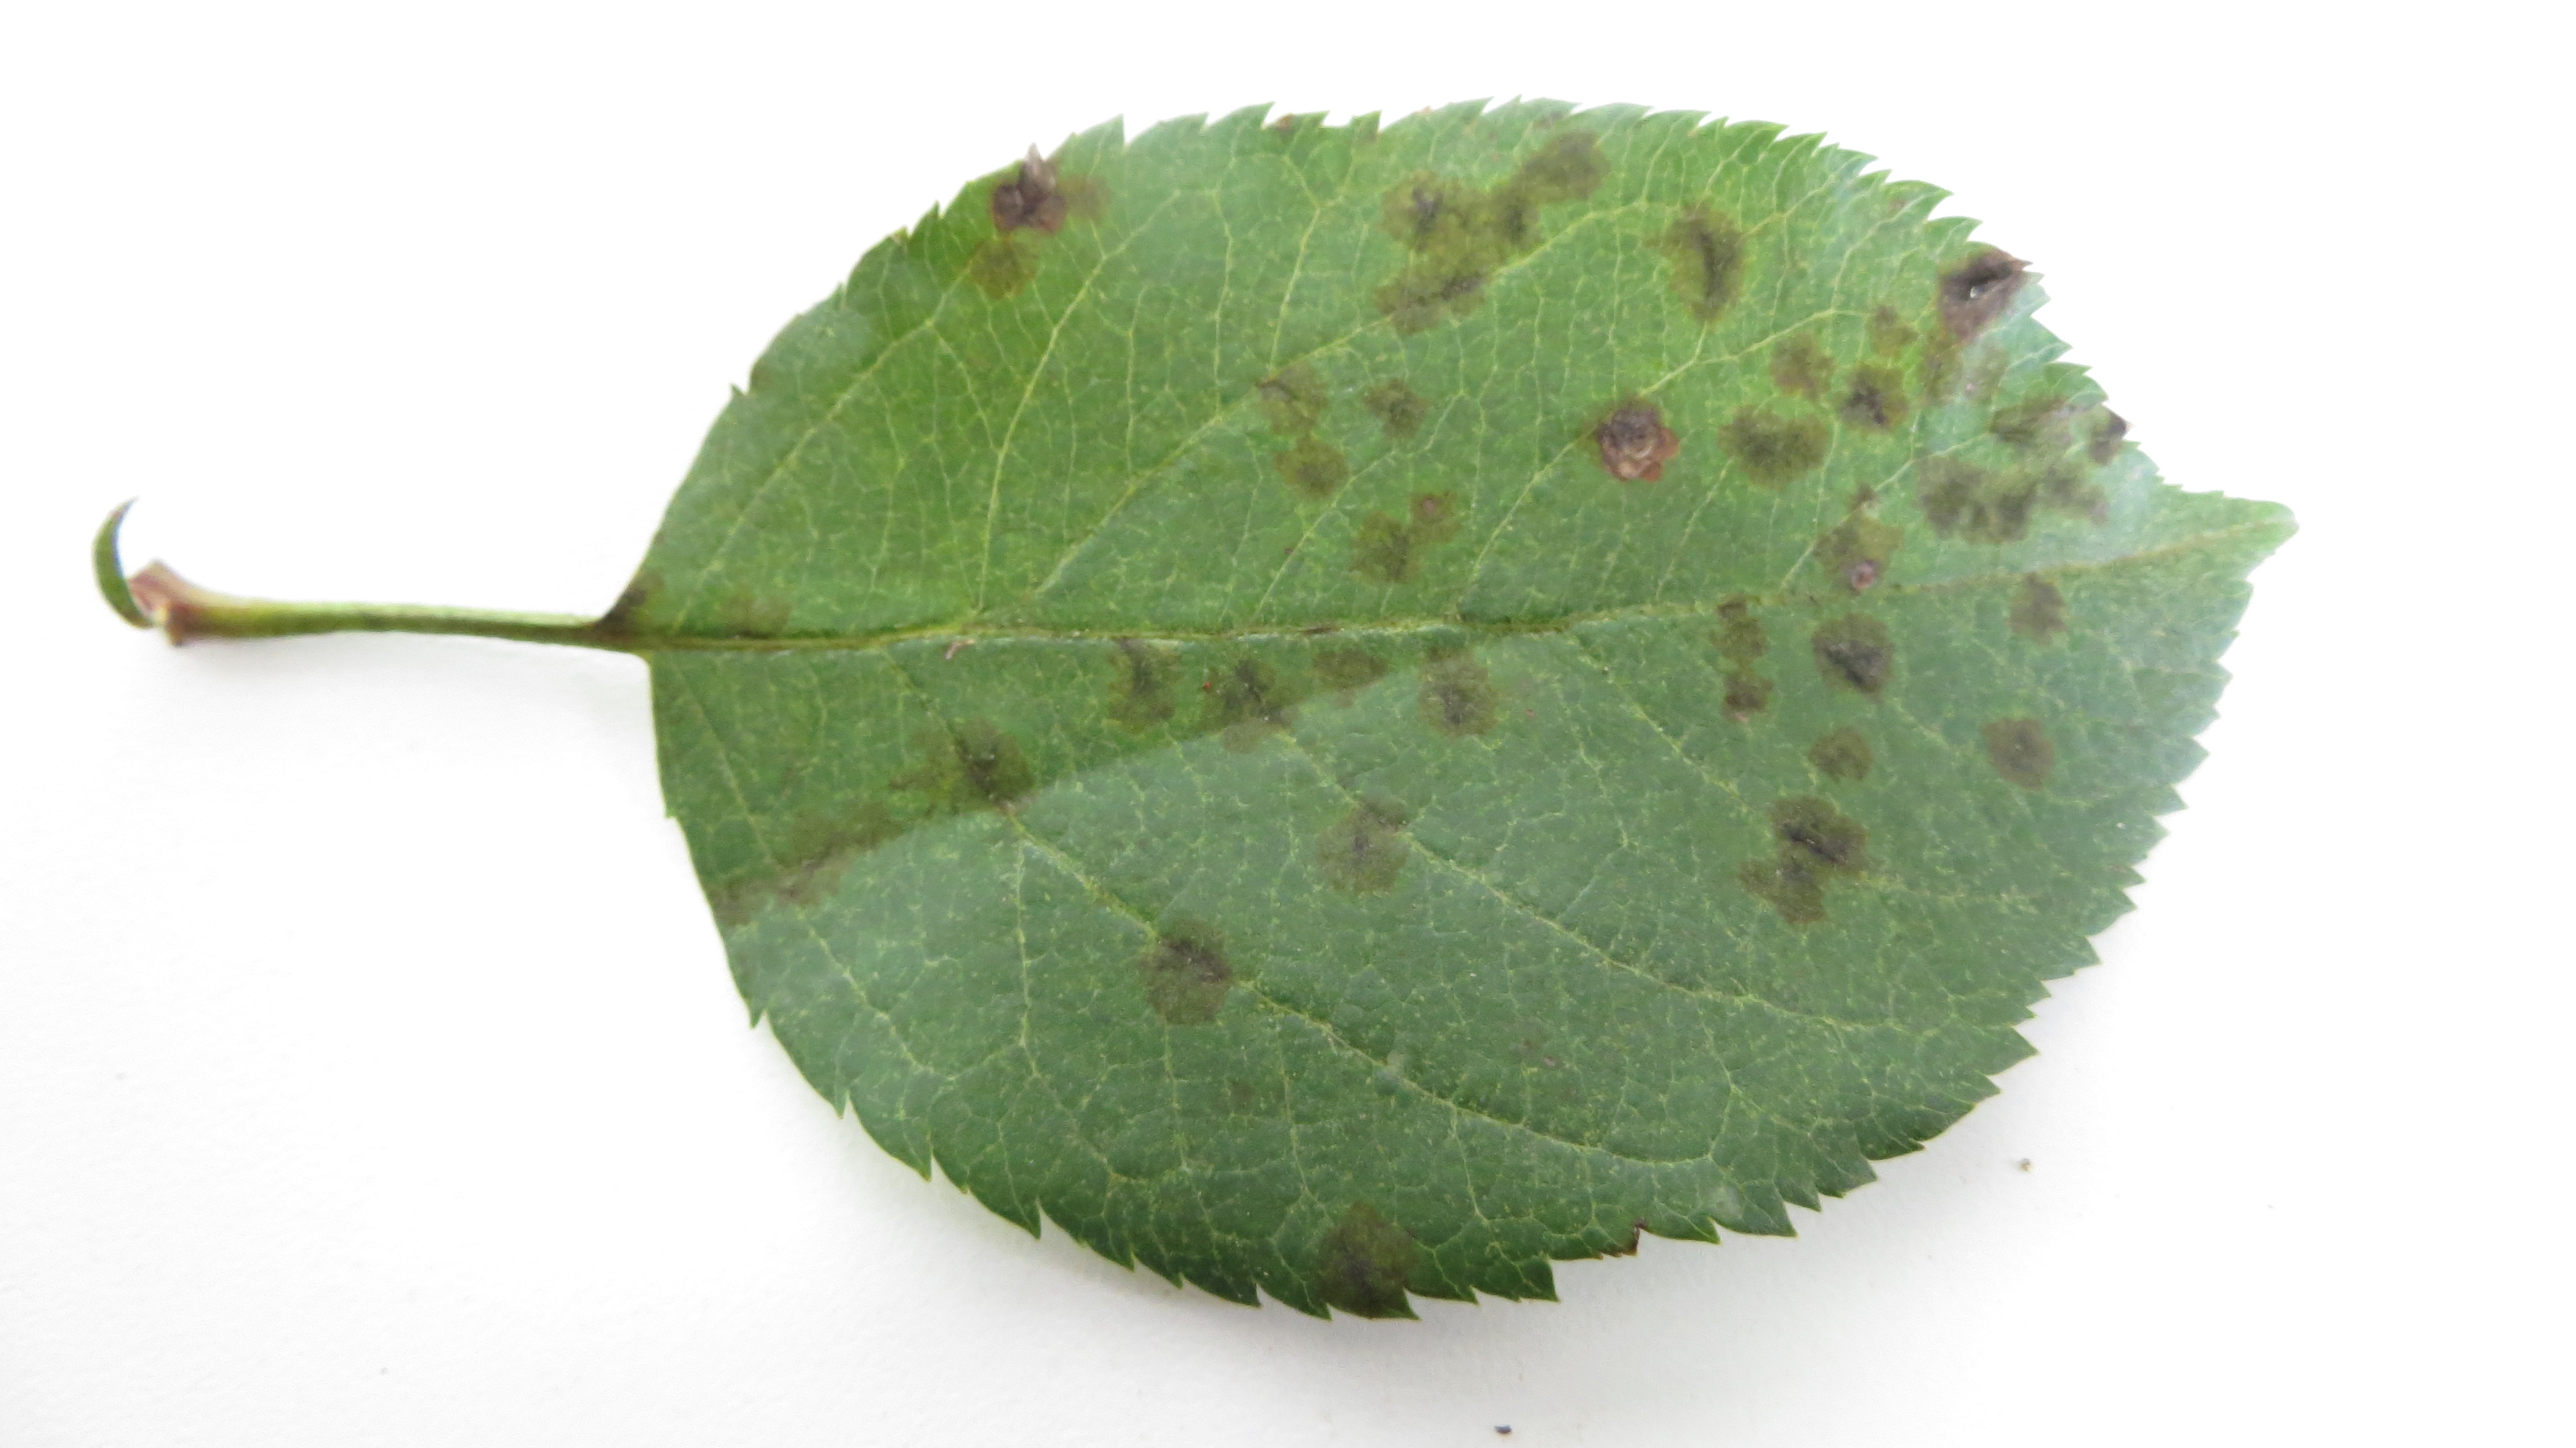sarna: (1361, 166, 1532, 350), (1913, 225, 2028, 420), (902, 710, 1054, 848), (1736, 784, 1874, 933), (2001, 388, 2135, 533), (1637, 179, 1759, 335), (1909, 443, 2045, 570), (1293, 1184, 1414, 1324), (771, 789, 901, 915), (1304, 772, 1426, 905), (1801, 467, 1914, 609), (1136, 908, 1247, 1050), (1191, 634, 1306, 768), (1700, 579, 1790, 742), (980, 136, 1120, 239), (1398, 618, 1507, 747), (1088, 618, 1198, 738), (1575, 381, 1683, 499), (1709, 398, 1835, 499), (1509, 115, 1621, 220), (1808, 604, 1905, 705), (1833, 352, 1925, 448), (1242, 349, 1330, 441), (957, 230, 1058, 310), (1307, 625, 1391, 720), (1974, 708, 2070, 791), (1759, 313, 1842, 409), (1799, 719, 1897, 800), (1352, 370, 1437, 458), (2003, 565, 2075, 662), (1279, 437, 1364, 517), (708, 866, 789, 947), (1854, 290, 1923, 374), (1401, 476, 1474, 552), (1348, 506, 1412, 579)
